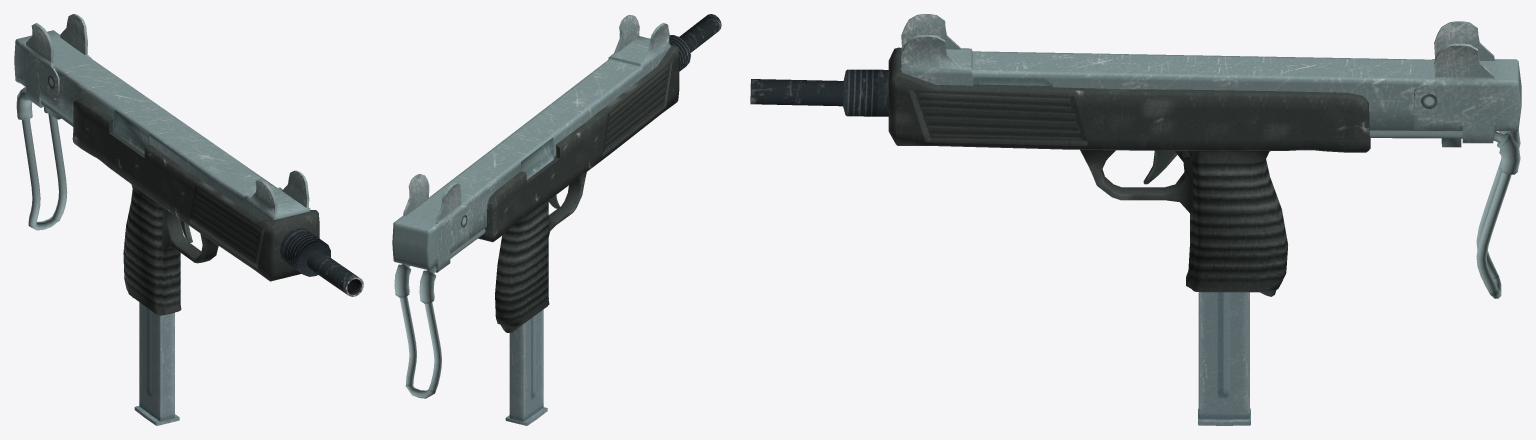
File: Steyr_69.obj
3 renders of one model, left to right at view 1: azimuth 30°, elevation 25°; view 2: azimuth 150°, elevation 25°; view 3: azimuth 270°, elevation 25°, orthographic. The views are drawn at different scales.
Visible parts, largest first — view 1: Pistol_Grip, Main_Body, Ammo_Clip, Piping, cylinder; view 2: Main_Body, Pistol_Grip, Ammo_Clip, Piping, cylinder; view 3: Pistol_Grip, Main_Body, Ammo_Clip, cylinder, Piping.
Part boxes in pixels (x1=…): Pistol_Grip: x1=72, y1=98, x2=319, y2=315; Main_Body: x1=14, y1=14, x2=310, y2=220; Ammo_Clip: x1=134, y1=302, x2=179, y2=425; Piping: x1=16, y1=87, x2=73, y2=230; cylinder: x1=280, y1=228, x2=363, y2=296; Main_Body: x1=392, y1=15, x2=670, y2=272; Pistol_Grip: x1=478, y1=45, x2=679, y2=332; Ammo_Clip: x1=505, y1=309, x2=547, y2=425; Piping: x1=394, y1=228, x2=485, y2=398; cylinder: x1=669, y1=14, x2=721, y2=71; Pistol_Grip: x1=888, y1=47, x2=1370, y2=296; Main_Body: x1=900, y1=14, x2=1521, y2=147; Ammo_Clip: x1=1198, y1=292, x2=1250, y2=425; cylinder: x1=750, y1=69, x2=889, y2=116; Piping: x1=1369, y1=130, x2=1520, y2=298.
Size of the model in its own units: 0.8156 by 5.34 by 9.45.
